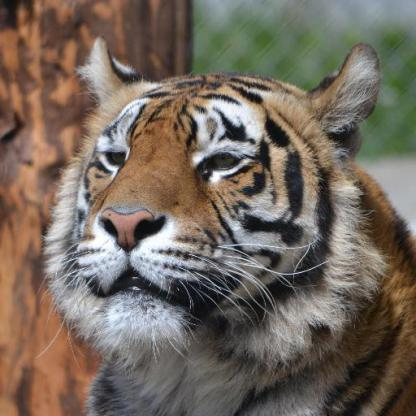tiger: (48, 42, 370, 337)
